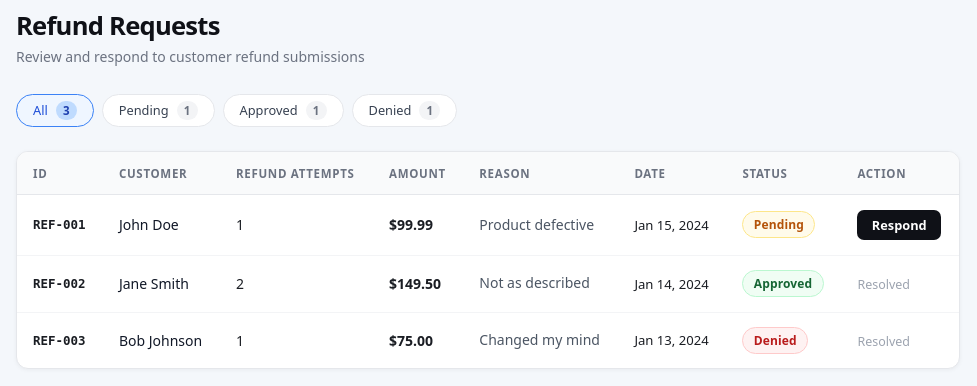
Test case: RefundsPage › filters refunds by status
This screenshot has width=977, height=386.
Expected: the text "REF-001" is shown, 17,195 -> 103,255
Note: Click pending filter
Step 1. Click the button "Pending 1" → x=158, y=110, box 102,94 -> 215,127
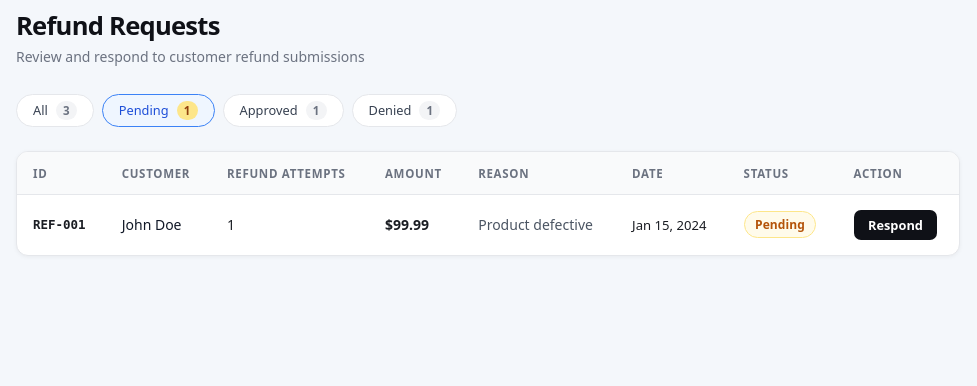
Expected: the text "REF-001" is shown, 17,195 -> 106,255
Now the text "REF-002" is gone
Now the text "REF-003" is gone
